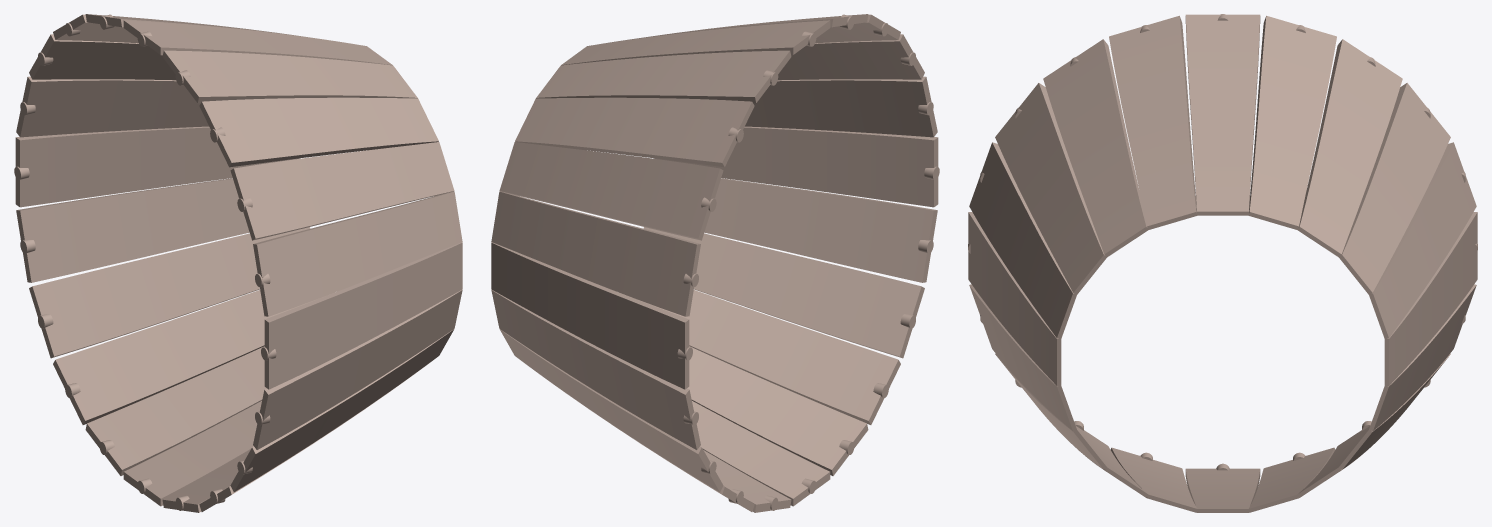
Rendered from nozzle-petals.glb.
3 renders of one model, left to right at view 1: azimuth 30°, elevation 25°; view 2: azimuth 150°, elevation 25°; view 3: azimuth 270°, elevation 25°, orthographic.
Visible parts, largest first — view 1: nozzle-petals - heat; view 2: nozzle-petals - heat; view 3: nozzle-petals - heat.
Boxes of the visible parts, x1,y1,x2,y2 form: nozzle-petals - heat: (14, 14, 462, 512); nozzle-petals - heat: (491, 14, 939, 512); nozzle-petals - heat: (968, 14, 1477, 512).
Bounding box in the file's own units: 0.94 × 1.73 × 1.73.
